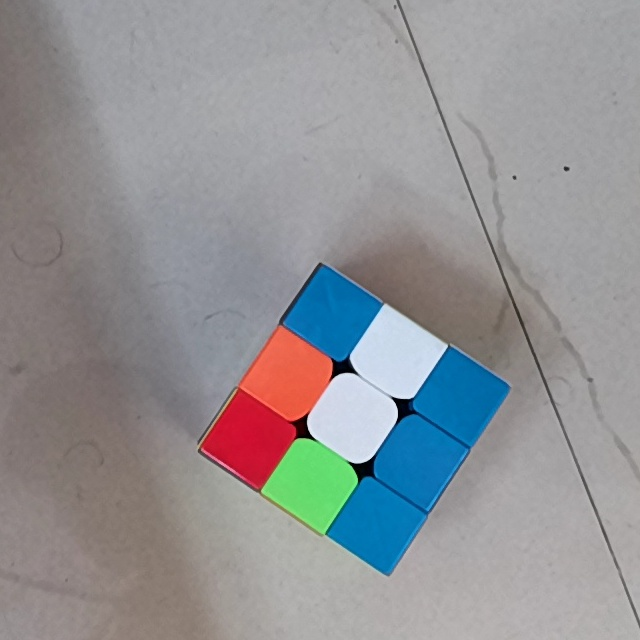tile: (392, 436, 445, 487), (286, 459, 339, 509), (369, 330, 423, 379), (435, 371, 486, 420), (223, 415, 275, 463), (352, 501, 405, 548), (265, 352, 316, 400), (325, 394, 379, 439), (306, 292, 358, 338)
